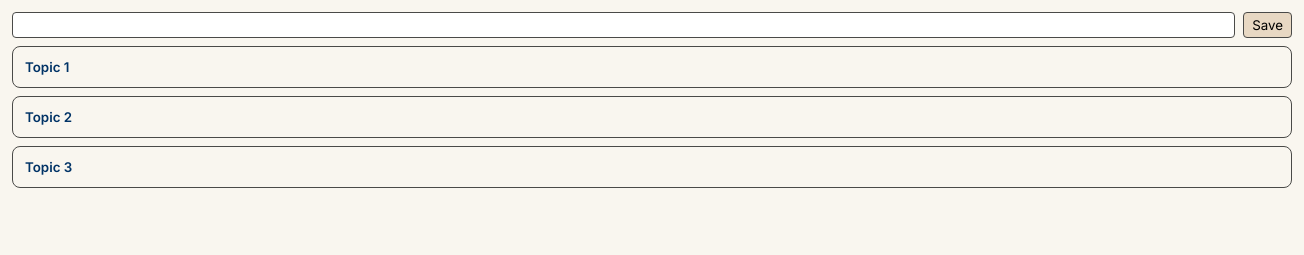
Test case: TopicLayoutPreview › clicking Save performs the same save/clear/prepend behavior
Type "  Save Click Topic  " into the field at (624, 25), box x1=12 y1=12 x2=1235 y2=38
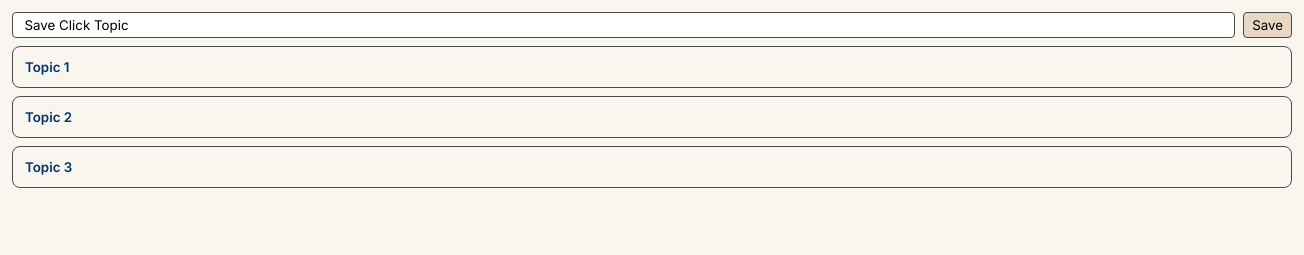
Click the button "Save" at (1268, 25), box x1=1243 y1=12 x2=1292 y2=38
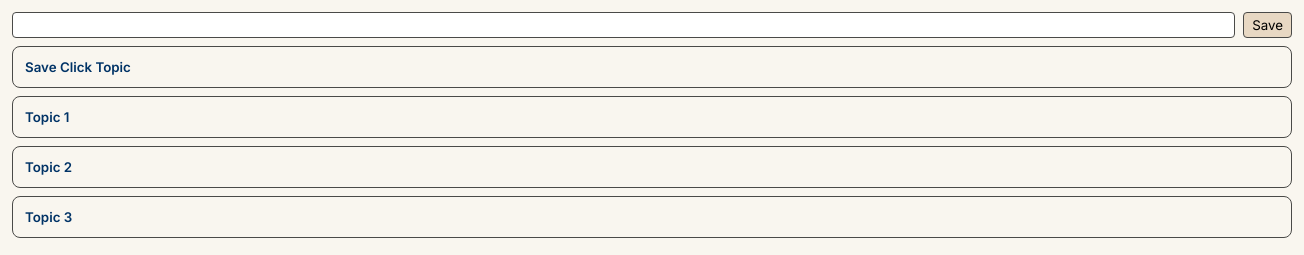
Check: the element with test id "topic-card-" reads "Save Click Topic", box x1=21 y1=55 x2=1283 y2=79
Check: the field is empty, box x1=12 y1=12 x2=1235 y2=38
